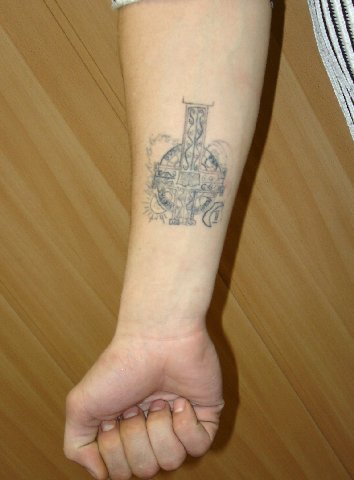tatu9_krest: (150, 88, 225, 229)
